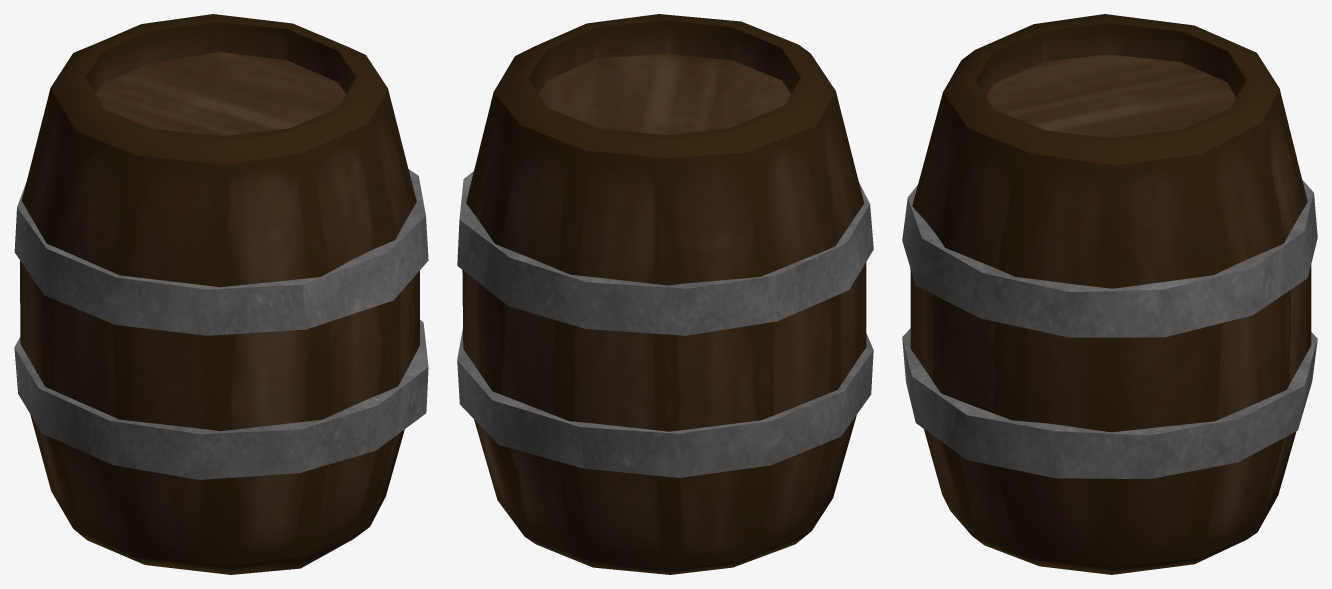
File: barreltest.fbx
3 views of the same model, side by side, from view 1: azimuth 30°, elevation 25°; view 2: azimuth 150°, elevation 25°; view 3: azimuth 270°, elevation 25° (orthographic).
Parts seen in each view (by area): view 1: barrelrion_LOW; view 2: barrelrion_LOW; view 3: barrelrion_LOW.
Boxes of the visible parts, x1,y1,x2,y2 form: barrelrion_LOW: (14,14,428,574); barrelrion_LOW: (457,14,873,574); barrelrion_LOW: (902,14,1317,574).
Bounding box in the file's own units: 3.72 × 4.26 × 3.72.
